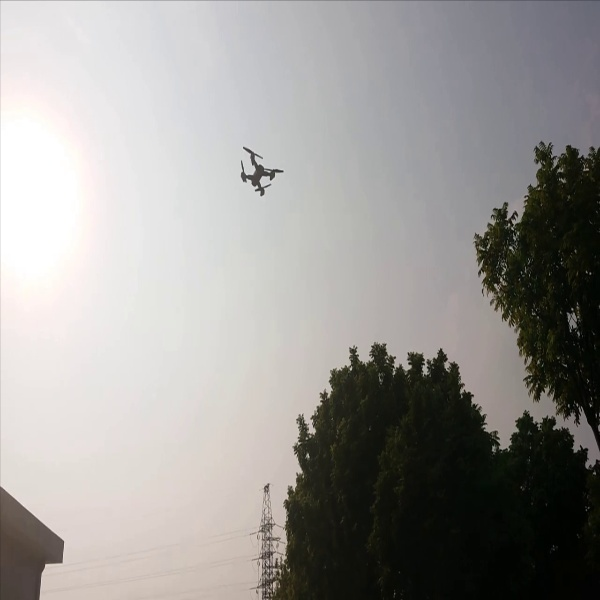drone: (229, 135, 288, 203)
